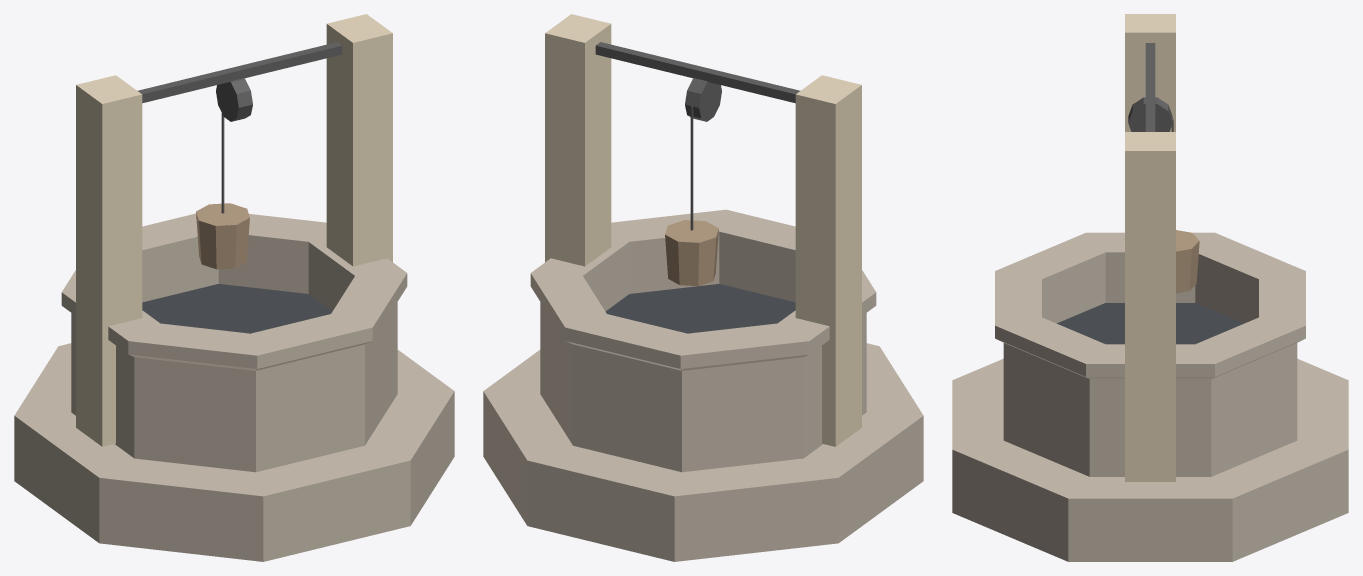
File: SM_BM_BH_Pozzo.glb
3 renders of one model, left to right at view 1: azimuth 30°, elevation 25°; view 2: azimuth 150°, elevation 25°; view 3: azimuth 270°, elevation 25°, orthographic. The views are drawn at different scales.
Visible parts, largest first — view 1: SM_BM_BH_Pozzo; view 2: SM_BM_BH_Pozzo; view 3: SM_BM_BH_Pozzo.
Boxes of the visible parts, x1,y1,x2,y2 form: SM_BM_BH_Pozzo: [14, 14, 454, 561]; SM_BM_BH_Pozzo: [483, 14, 923, 561]; SM_BM_BH_Pozzo: [952, 14, 1348, 561].
Size of the model in its own units: 2.49 by 2.75 by 2.49.
